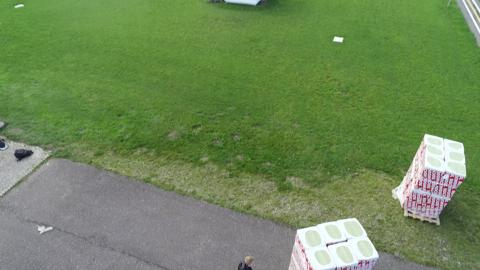RockwoolPallet: (287, 219, 379, 269)
